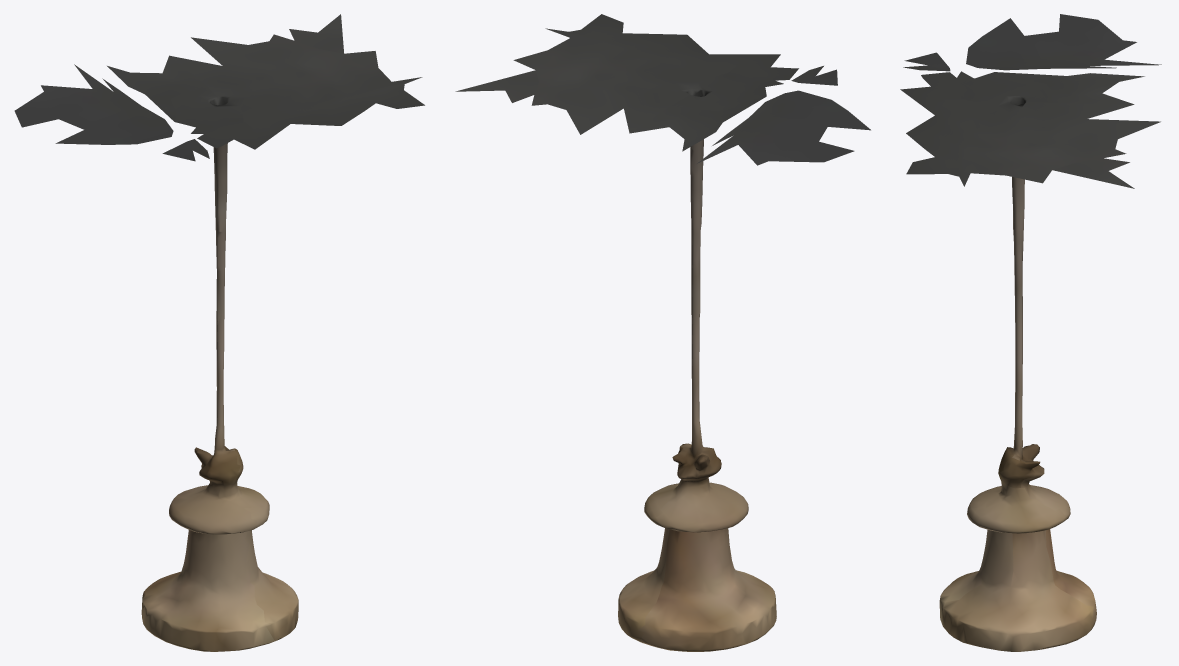
Rendered from temple_bell.glb.
3 views of the same model, side by side, from view 1: azimuth 30°, elevation 25°; view 2: azimuth 150°, elevation 25°; view 3: azimuth 270°, elevation 25° (orthographic).
Visible parts, largest first — view 1: Temple_Bell; view 2: Temple_Bell; view 3: Temple_Bell.
Part boxes in pixels (left/top/right/bottom): Temple_Bell: left=14, top=14, right=424, bottom=651; Temple_Bell: left=455, top=14, right=870, bottom=651; Temple_Bell: left=900, top=14, right=1161, bottom=651.
Bounding box in the file's own units: 0.0548 × 0.0764 × 0.0352.
1 material, 1 textured.
